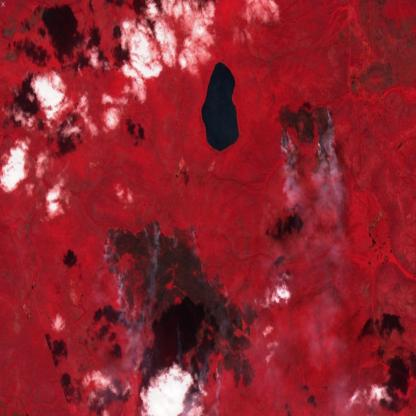fire: (99, 213, 260, 388), (272, 100, 338, 171)
